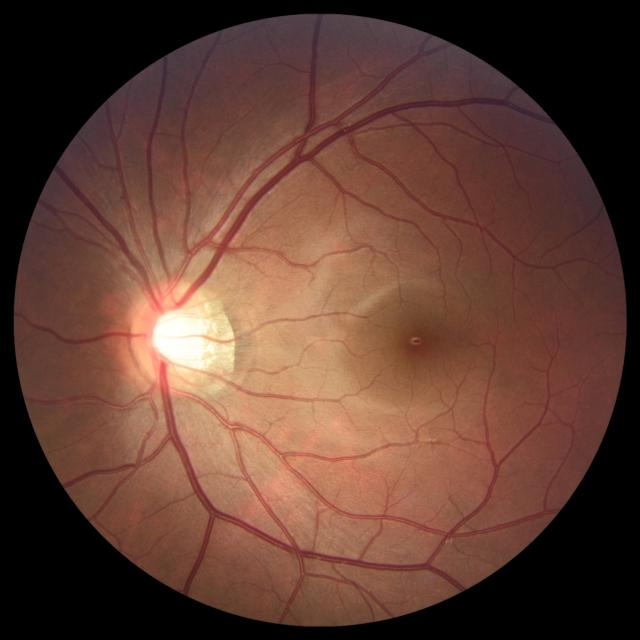OC: (150, 308, 200, 362)
OD: (130, 284, 212, 389)
